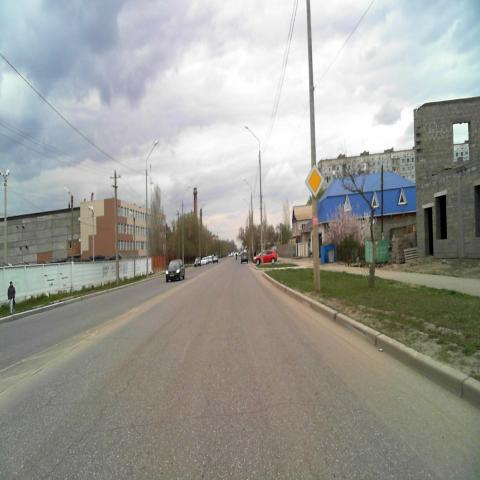2_1: (305, 162, 326, 199)
